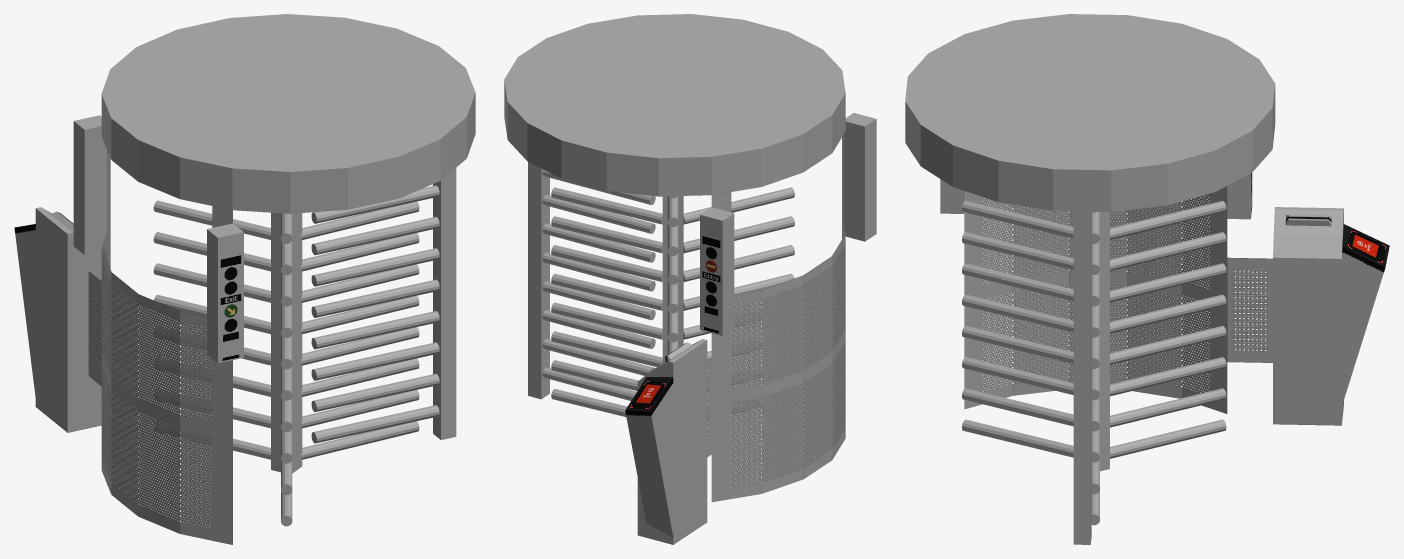
Rendered from nyc_subway_fare_gate_2_exit_open.obj.
3 renders of one model, left to right at view 1: azimuth 30°, elevation 25°; view 2: azimuth 150°, elevation 25°; view 3: azimuth 270°, elevation 25°, orthographic. The views are drawn at different scales.
Parts seen in each view (by area): view 1: top, wall, cube, turnstileStatic, turnstile2, turnstile1, staticRod, turnstileRod, turnstile3; view 2: top, wall, cube, turnstile2, turnstileStatic, staticRod, turnstile3, turnstileRod, turnstile1; view 3: top, wall, cube, turnstile1, turnstile3, staticRod, turnstile2, turnstileRod.
Boxes of the visible parts, x1,y1,x2,y2 form: top: [101, 14, 475, 213]; wall: [101, 150, 232, 544]; cube: [14, 115, 243, 432]; turnstileStatic: [311, 185, 439, 443]; turnstile2: [301, 201, 419, 459]; turnstile1: [153, 200, 270, 459]; staticRod: [433, 168, 456, 439]; turnstileRod: [271, 212, 302, 473]; turnstile3: [281, 213, 292, 526]; top: [504, 14, 845, 196]; wall: [711, 135, 845, 501]; cube: [625, 113, 876, 544]; turnstile2: [551, 187, 662, 416]; turnstileStatic: [542, 169, 655, 400]; staticRod: [528, 162, 549, 399]; turnstile3: [683, 187, 794, 419]; turnstileRod: [662, 196, 683, 362]; turnstile1: [667, 196, 678, 354]; top: [905, 14, 1275, 211]; wall: [964, 186, 1227, 413]; cube: [940, 173, 1389, 425]; turnstile1: [1110, 200, 1226, 458]; turnstile3: [962, 200, 1073, 457]; staticRod: [1073, 211, 1091, 544]; turnstile2: [1091, 211, 1099, 525]; turnstileRod: [1100, 212, 1109, 471].
Bounding box in the file's own units: 2.01 × 2.25 × 2.63.
Materials: 1 (1 with a texture image).
